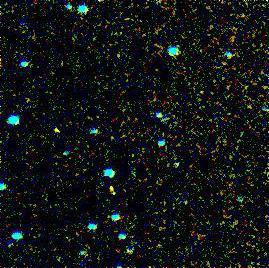star: (93, 173, 123, 203)
